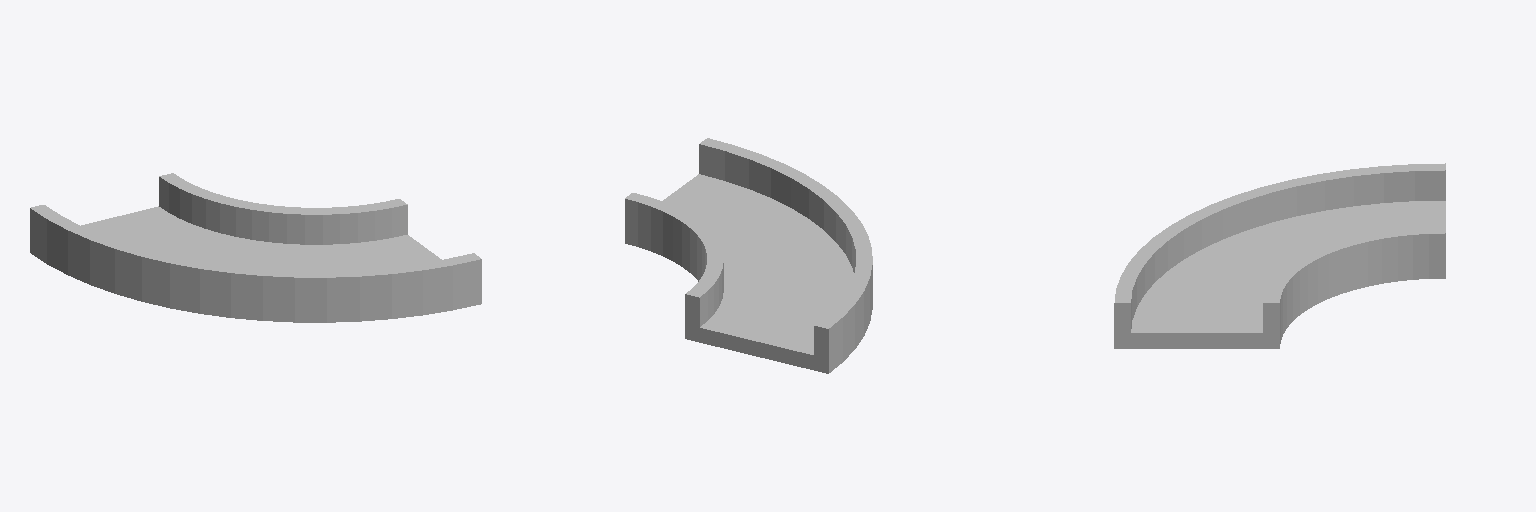
File: CornerLarge.obj
The picture shows the model from 3 angles: view 1: azimuth 30°, elevation 25°; view 2: azimuth 150°, elevation 25°; view 3: azimuth 270°, elevation 25°; orthographic projection.
Visible parts, largest first — view 1: CornerLarge; view 2: CornerLarge; view 3: CornerLarge.
Boxes of the visible parts, x1=… form: CornerLarge: x1=30, y1=173, x2=481, y2=322; CornerLarge: x1=625, y1=138, x2=872, y2=373; CornerLarge: x1=1114, y1=163, x2=1445, y2=348.
Bounding box in the file's own units: 4 × 0.6 × 4.